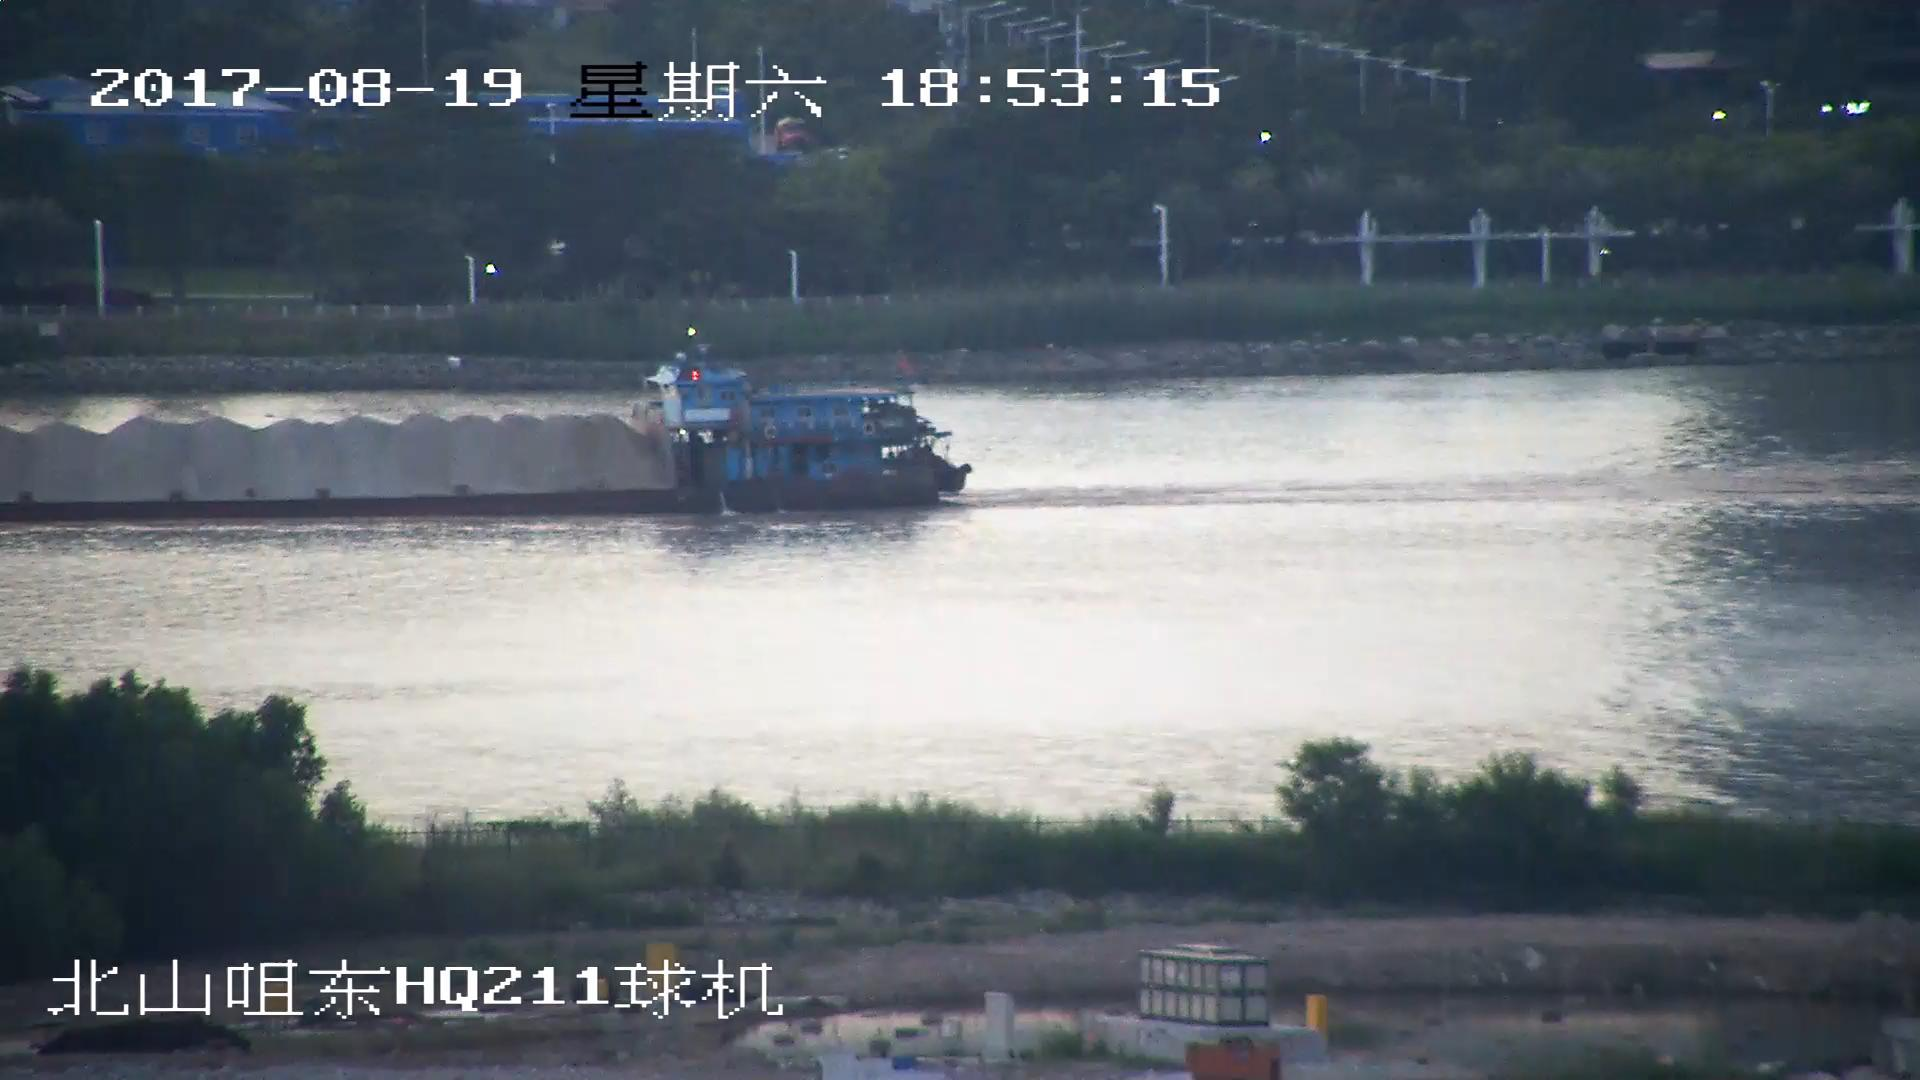Ship: (3, 326, 975, 516)
